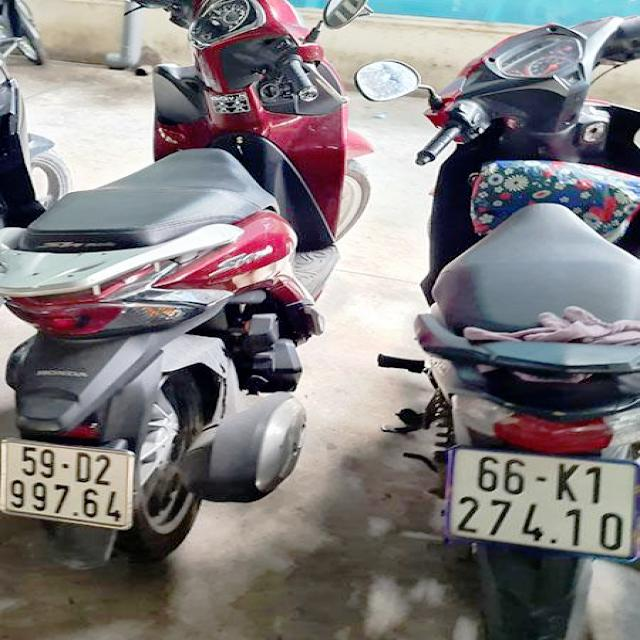license_plate: (451, 448, 636, 561), (1, 436, 132, 530)
